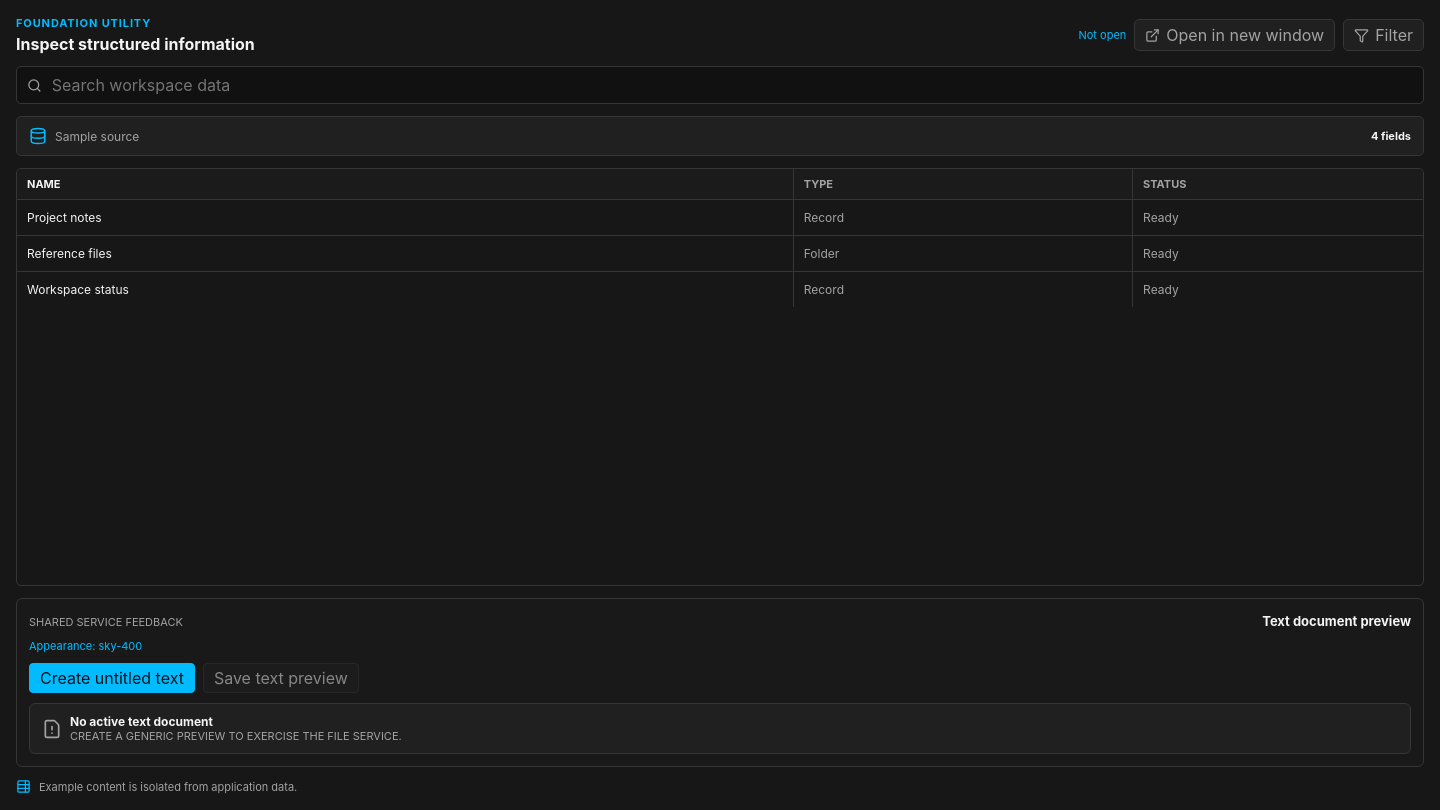
Scenario: exercises generic document feedback and displays the active profile
Check: the text "No active text document" is shown, box [70,714,213,729]
Check: the text "Appearance: sky-400" is shown, box [29,639,142,653]
Click the button "Create untitled text" at (112, 678), box [29,663,195,693]
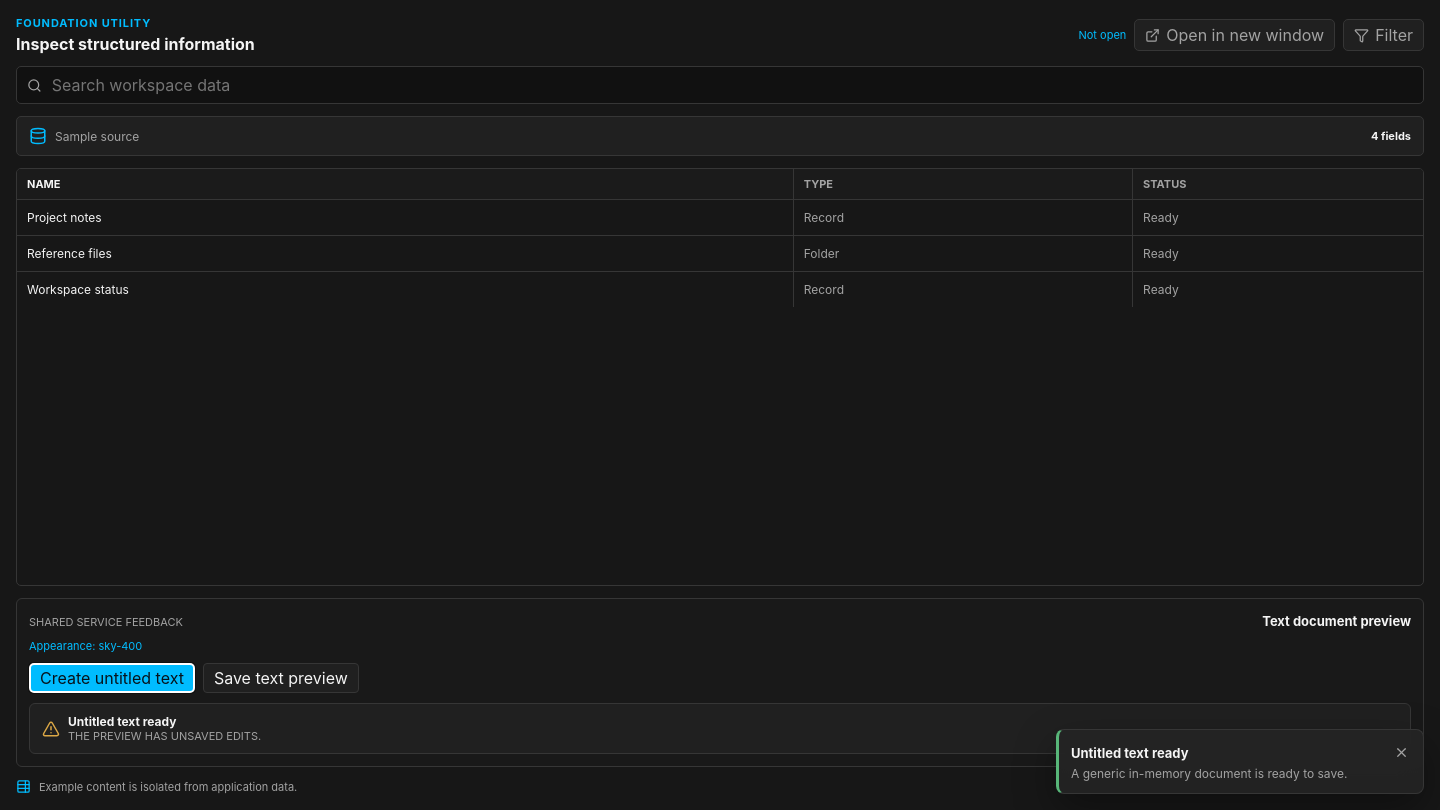
Check: the text "Untitled text ready" is shown 2 times, box [68,714,176,729]; [1071,745,1188,761]
Click the button "Create untitled text" at (112, 678), box [29,663,195,693]
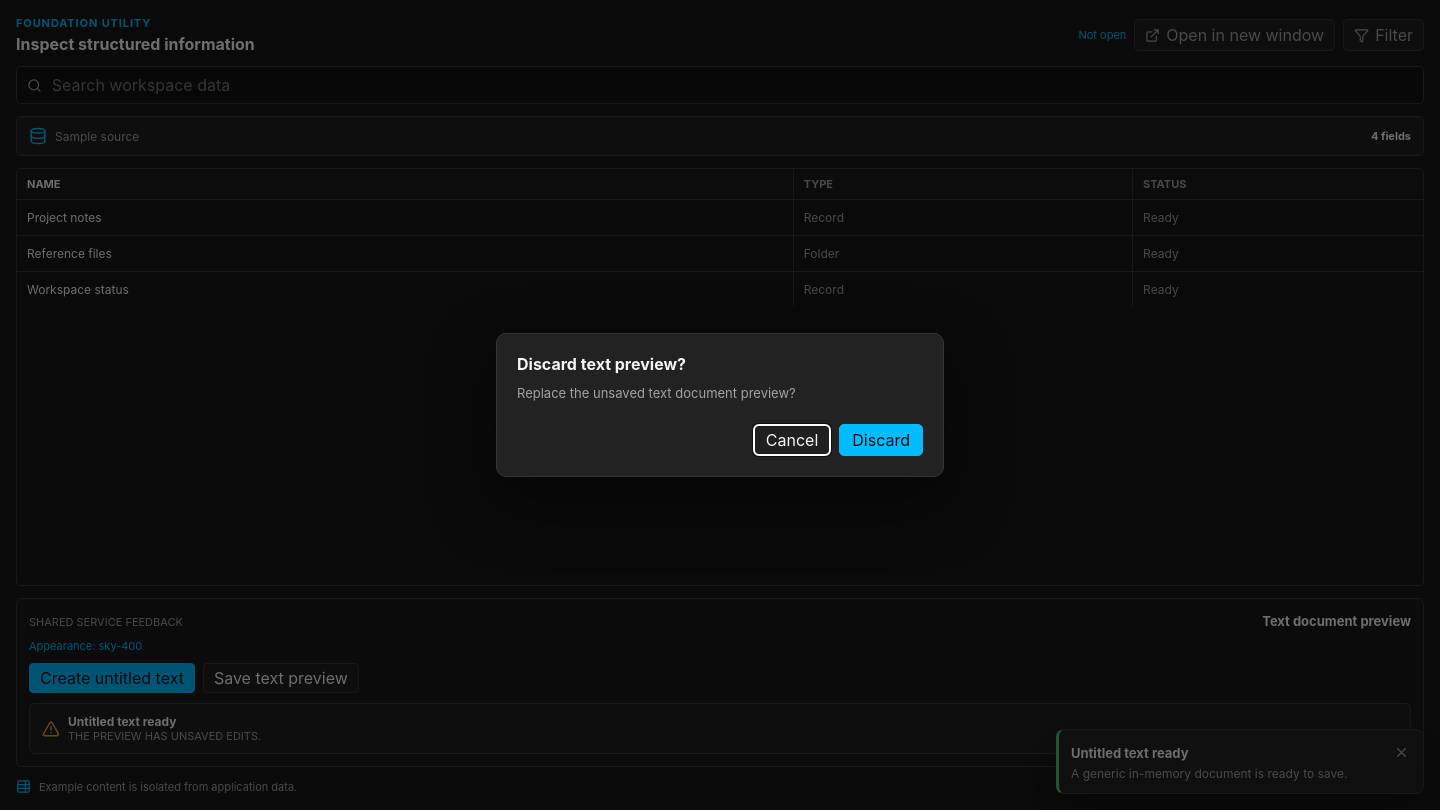
Check: the dialog "Discard text preview?" is shown, box [496,333,944,477]
Click the button "Cancel" at (792, 440), box [753,424,831,456]
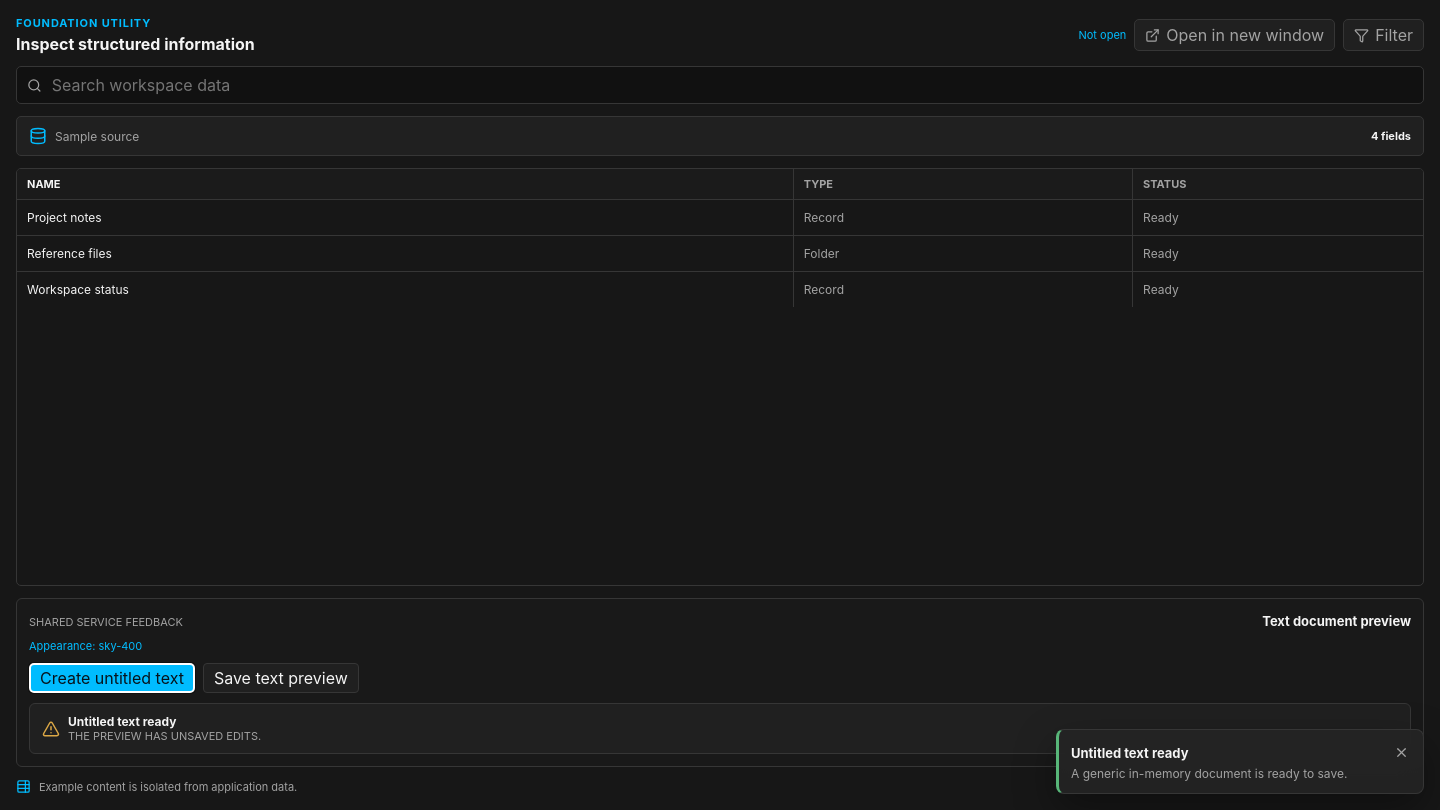
Click the button "Save text preview" at (281, 678), box [203,663,359,693]
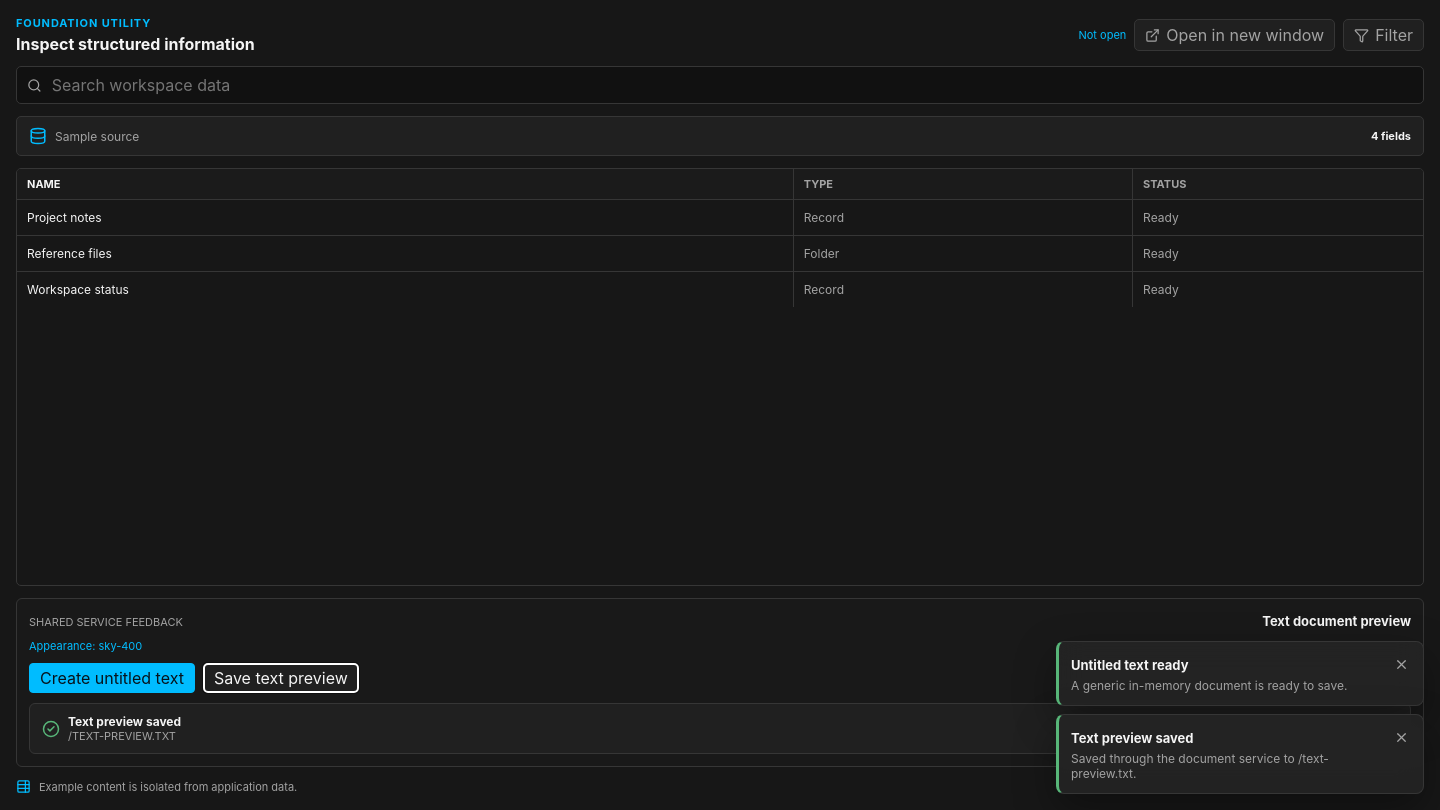
Check: the text "Text preview saved" is shown 2 times, box [68,714,181,729]; [1071,730,1194,746]
